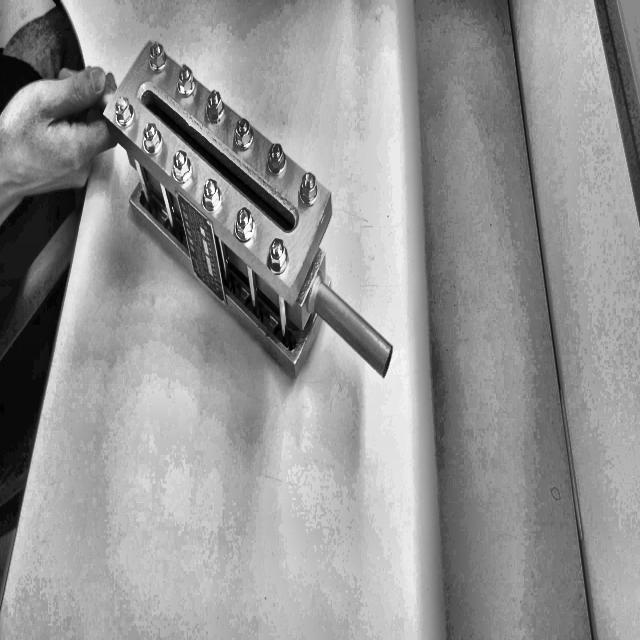ShuiWeiQi_12: (105, 32, 405, 400)
